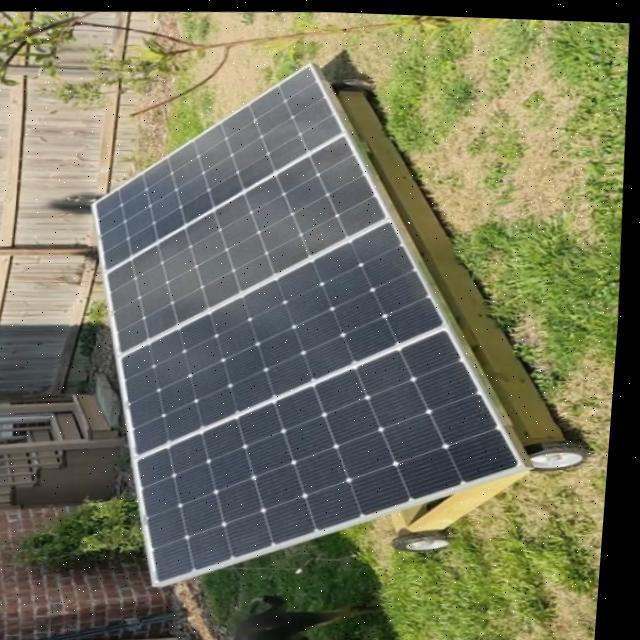Normal Solar Panel: (68, 47, 558, 596)
